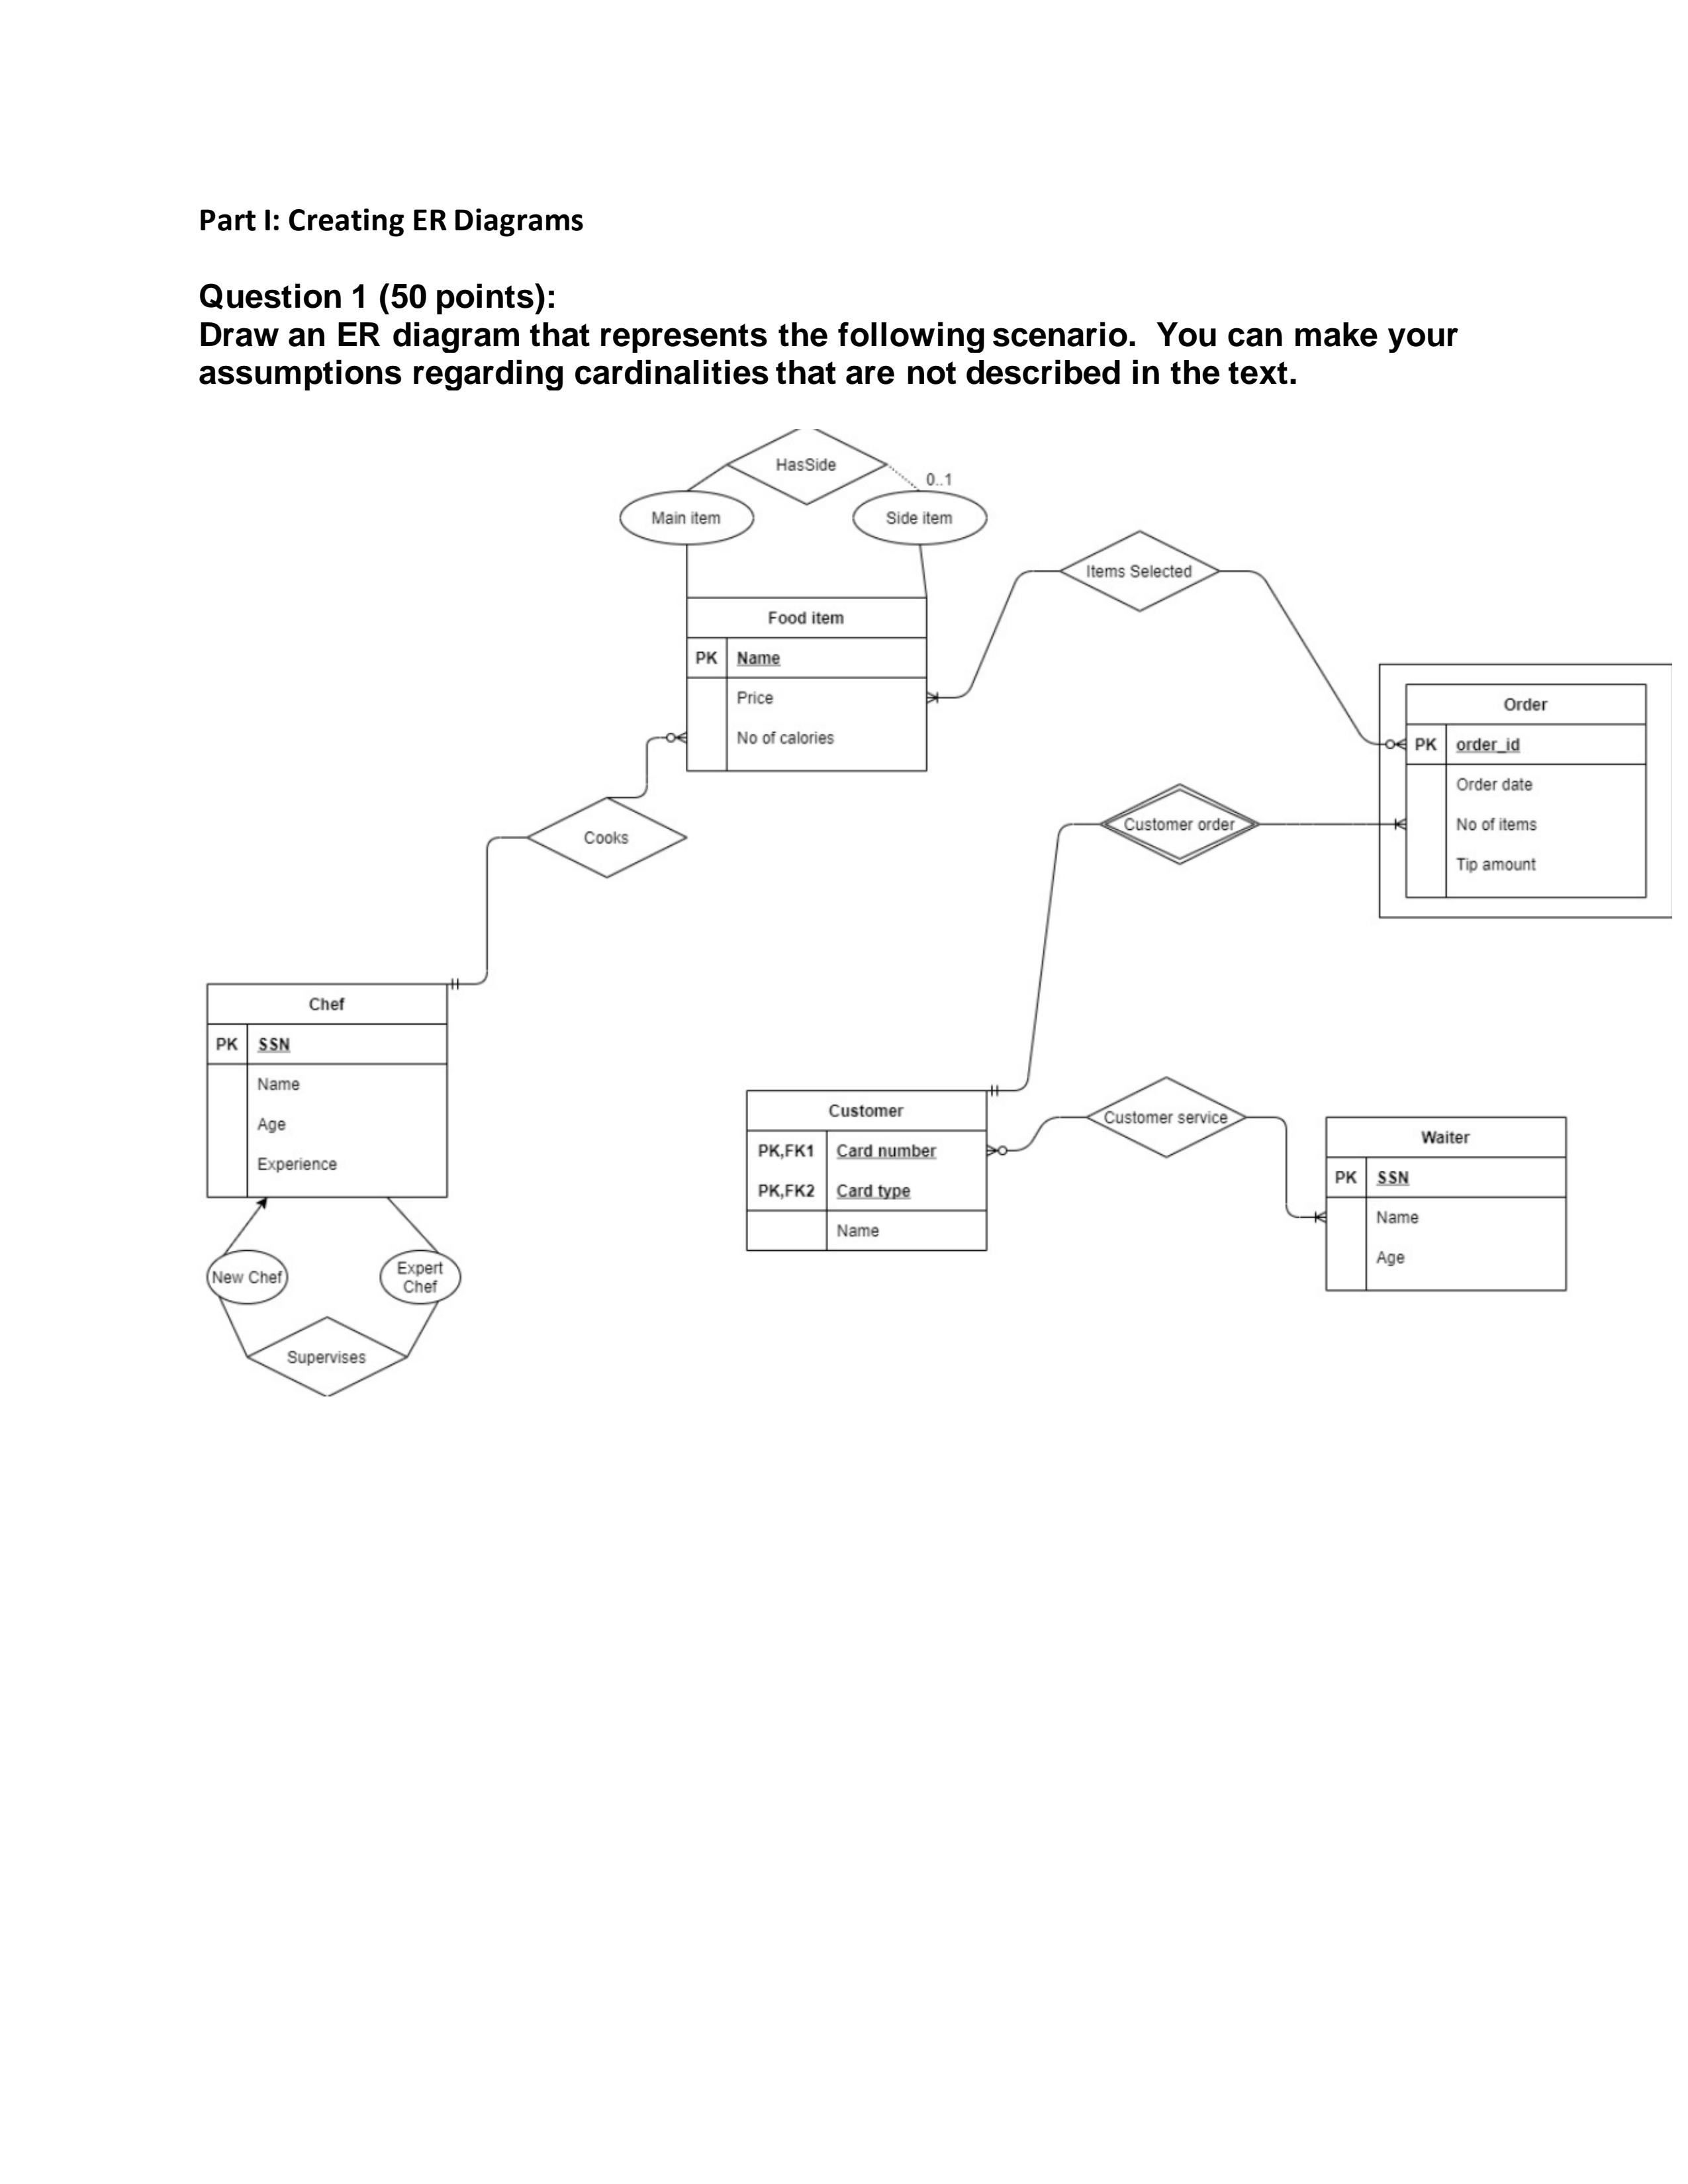Attribute: (619, 489, 755, 546), (853, 489, 988, 546), (376, 1248, 463, 1306), (206, 1252, 287, 1305)
Entity: (204, 980, 452, 1202), (1403, 682, 1651, 901), (1323, 1115, 1571, 1294), (684, 594, 929, 773), (743, 1087, 991, 1257)
Relationship: (241, 1314, 408, 1399), (1060, 530, 1222, 615), (1085, 1076, 1248, 1158), (528, 796, 688, 879), (1103, 782, 1259, 865), (727, 425, 888, 498)
